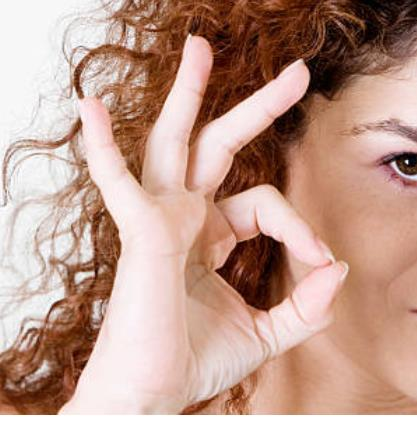left: (72, 37, 344, 395)
